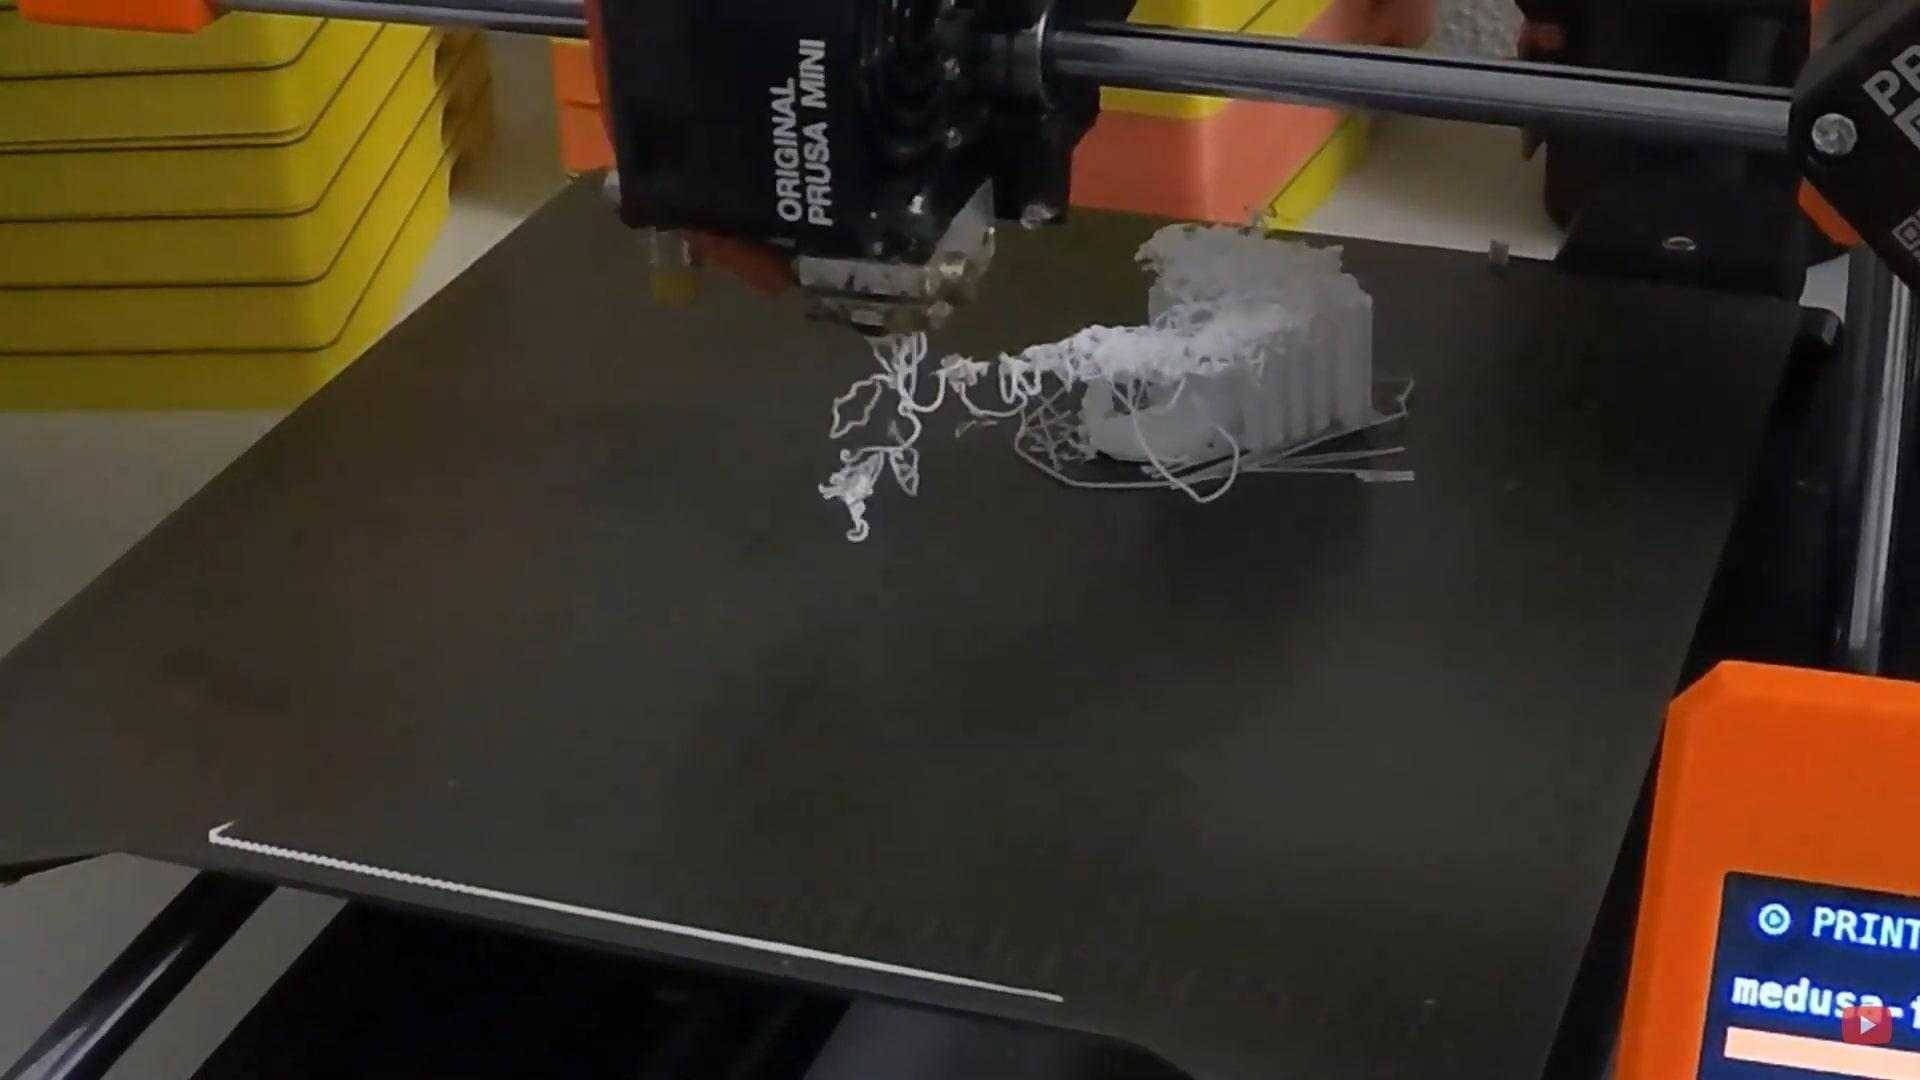Printing-Artifact: (794, 313, 990, 546)
